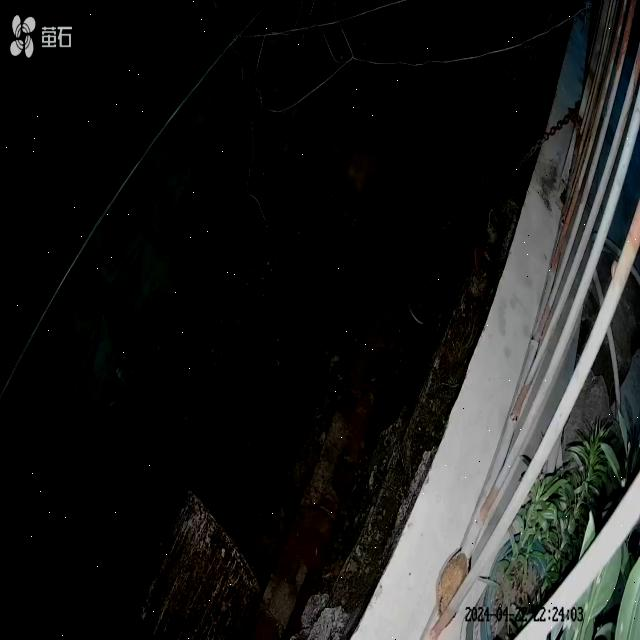dog: (326, 97, 402, 229)
